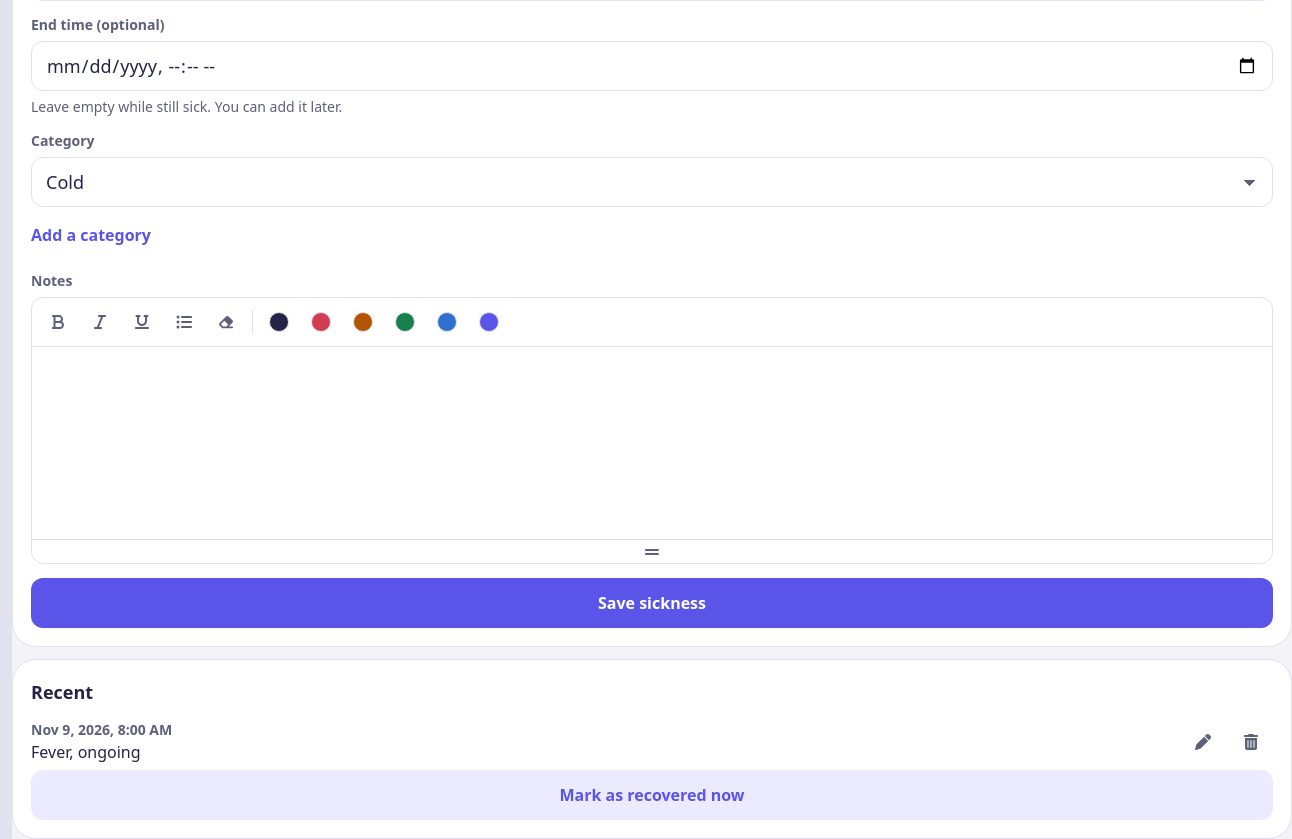
Test case: SicknessLogPage › edits a sickness to add the end time after recovery
This screenshot has width=1292, height=839.
(page scrolled)
Click the button named "Edit entry": (1203, 742) left=1181, top=720, right=1225, bottom=764
(page scrolled)
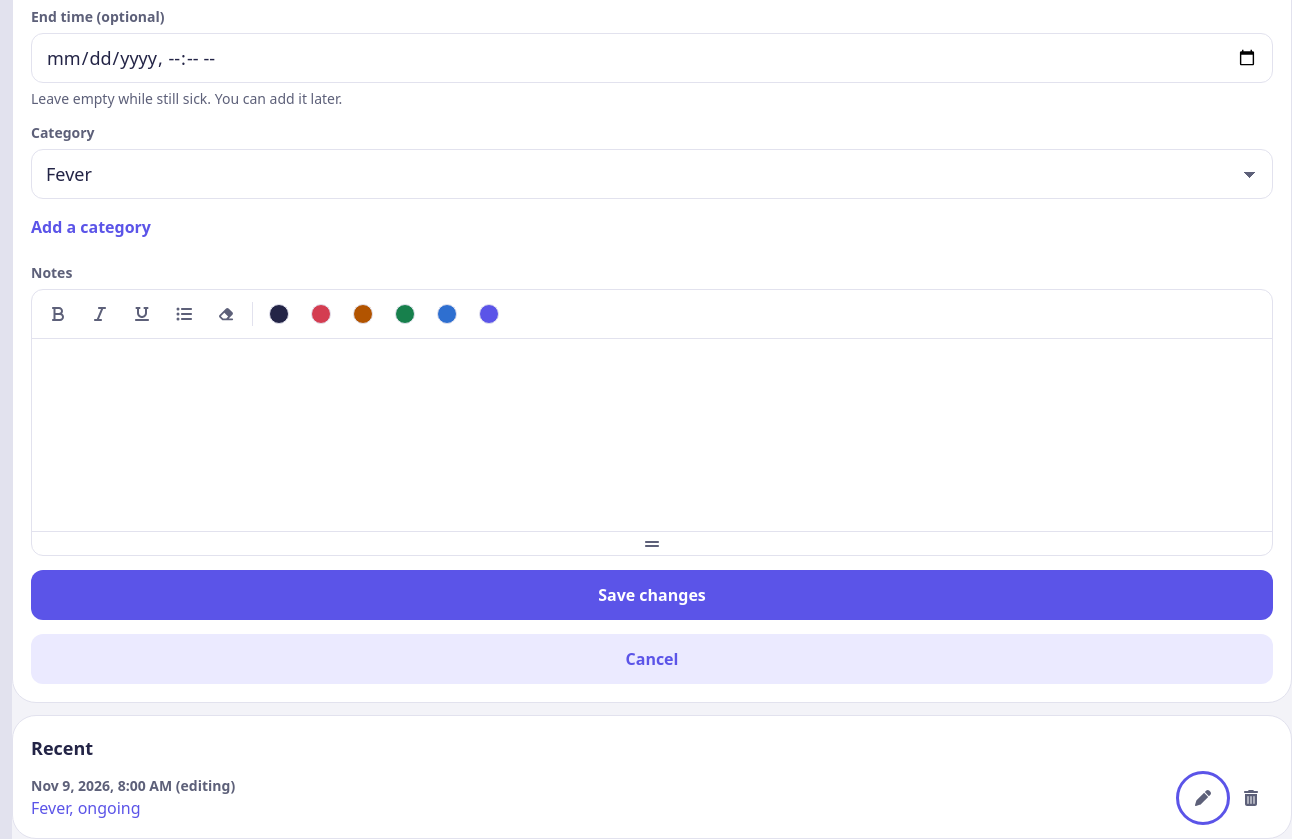
Result: the dropdown labelled "Category" shows "Fever" at left=31, top=149, right=1273, bottom=199
In the field labelled "End time (optional)": (652, 58) left=31, top=33, right=1273, bottom=83, type "2026-11-11T09:00"
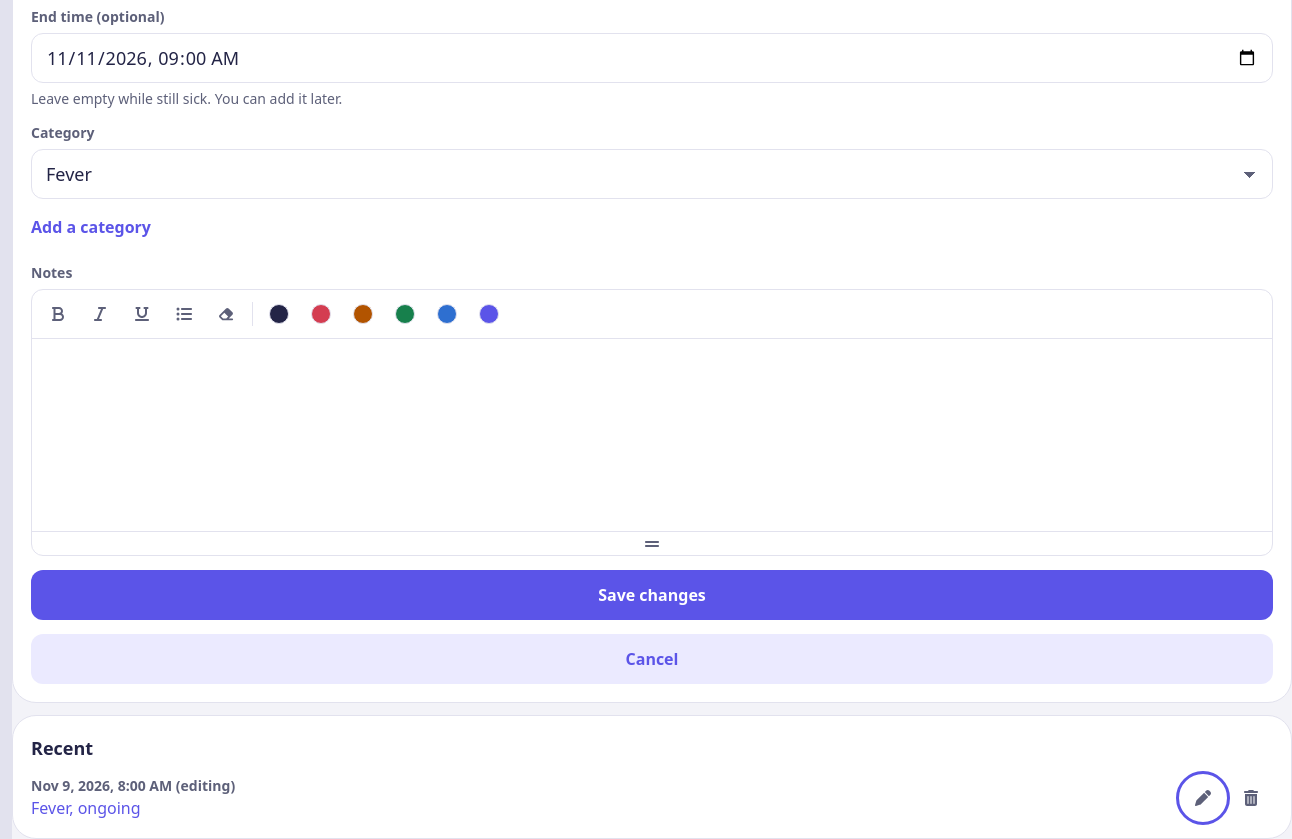
Click the button "Save changes": (652, 595) left=31, top=570, right=1273, bottom=620
(page scrolled)
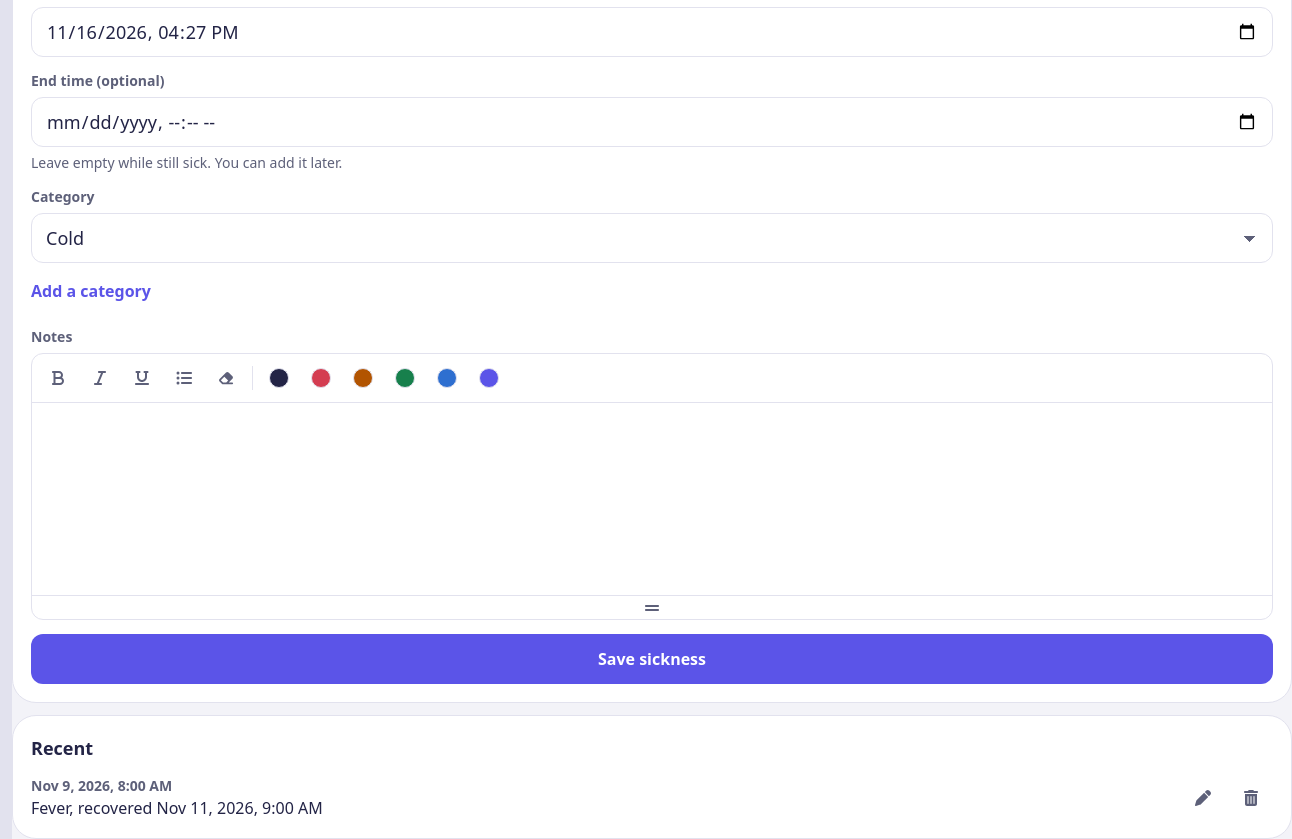
Result: the text "Fever, recovered Nov 11, 2026, 9:00 AM" is shown at left=31, top=797, right=323, bottom=819
